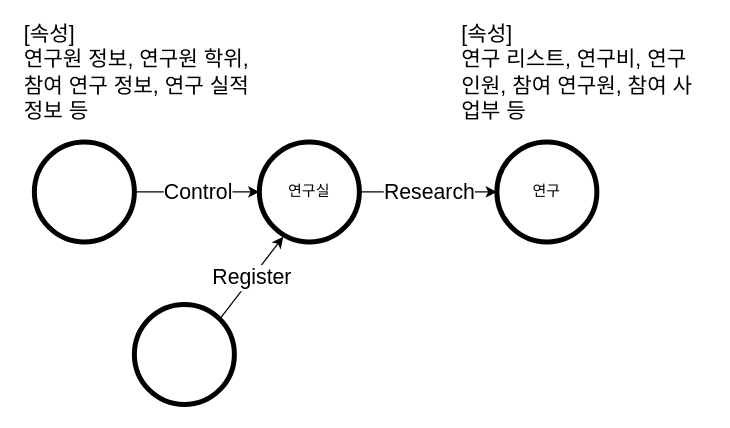
This 730x428 diagram has some shape labels left out. The shapes that lost their labels are listed below. From the top down, each one's centre as x and y in pixels, then its label:
the point at 83,191: 연구원
the point at 183,353: 학생
